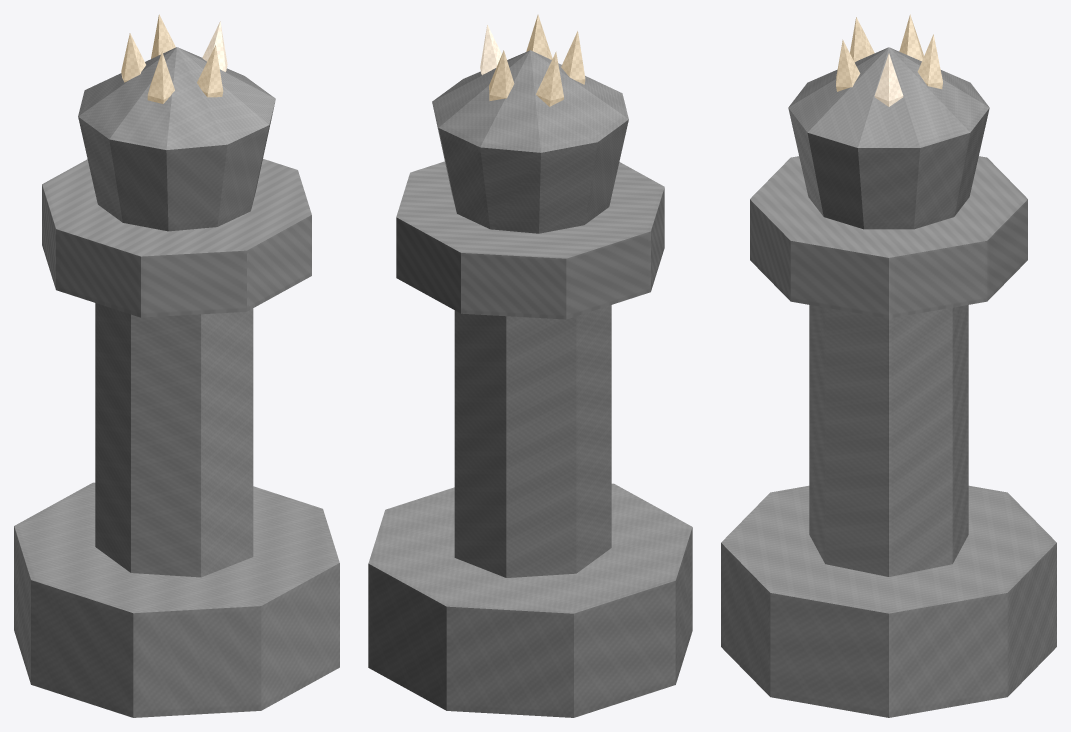
The model's file is furniture-geode-pedestal.glb.
3 renders of one model, left to right at view 1: azimuth 30°, elevation 25°; view 2: azimuth 150°, elevation 25°; view 3: azimuth 270°, elevation 25°, orthographic.
Visible parts, largest first — view 1: base, column, cap, geode-shell, geode-crystal-2, geode-crystal-1, geode-crystal-3, geode-crystal-0, geode-crystal-4; view 2: base, column, cap, geode-shell, geode-crystal-3, geode-crystal-4, geode-crystal-2, geode-crystal-0, geode-crystal-1; view 3: base, column, cap, geode-shell, geode-crystal-0, geode-crystal-4, geode-crystal-1, geode-crystal-2, geode-crystal-3.
Boxes of the visible parts, <box> form: base: <box>14,482,339,717</box>; column: <box>95,303,253,577</box>; cap: <box>42,159,311,317</box>; geode-shell: <box>78,47,275,231</box>; geode-crystal-2: <box>147,51,174,103</box>; geode-crystal-1: <box>197,45,223,97</box>; geode-crystal-3: <box>121,33,145,82</box>; geode-crystal-0: <box>202,21,227,71</box>; geode-crystal-4: <box>151,14,175,58</box>; base: <box>368,483,692,717</box>; column: <box>454,305,611,577</box>; cap: <box>396,161,664,319</box>; geode-shell: <box>432,50,628,233</box>; geode-crystal-3: <box>536,51,563,106</box>; geode-crystal-4: <box>489,50,514,100</box>; geode-crystal-2: <box>561,31,585,84</box>; geode-crystal-0: <box>480,25,501,75</box>; geode-crystal-1: <box>526,14,552,59</box>; base: <box>721,485,1056,717</box>; column: <box>809,305,968,576</box>; cap: <box>750,156,1027,318</box>; geode-shell: <box>788,47,989,229</box>; geode-crystal-0: <box>874,53,903,106</box>; geode-crystal-4: <box>917,34,942,89</box>; geode-crystal-1: <box>836,39,860,91</box>; geode-crystal-2: <box>850,17,874,62</box>; geode-crystal-3: <box>899,14,923,61</box>.
Size of the model in its own units: 0.7 by 1.42 by 0.7.
Materials: 9 (9 with a texture image).
